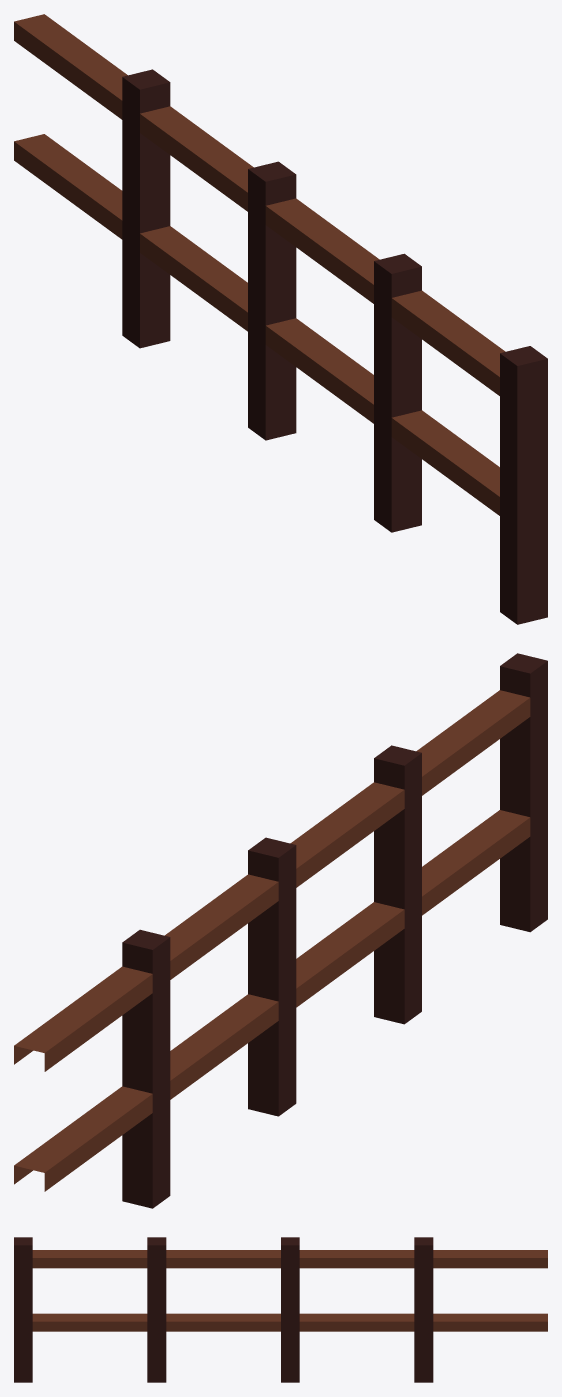
File: fence.obj
3 views of the same model, one above another, from view 1: azimuth 30°, elevation 25°; view 2: azimuth 150°, elevation 25°; view 3: azimuth 270°, elevation 25° (orthographic). The views are drawn at different scales.
Visible parts, largest first — view 1: Grid; view 2: Grid; view 3: Grid.
Part boxes in pixels (<box>): Grid: <box>14,14,547,624</box>; Grid: <box>14,653,547,1208</box>; Grid: <box>14,1237,547,1382</box>.
Size of the model in its own units: 0.0667 by 0.54 by 1.9.
